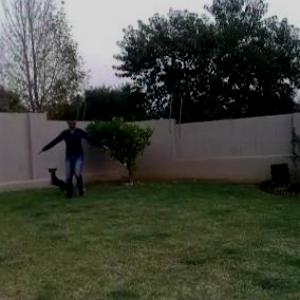land: (44, 113, 120, 205)
